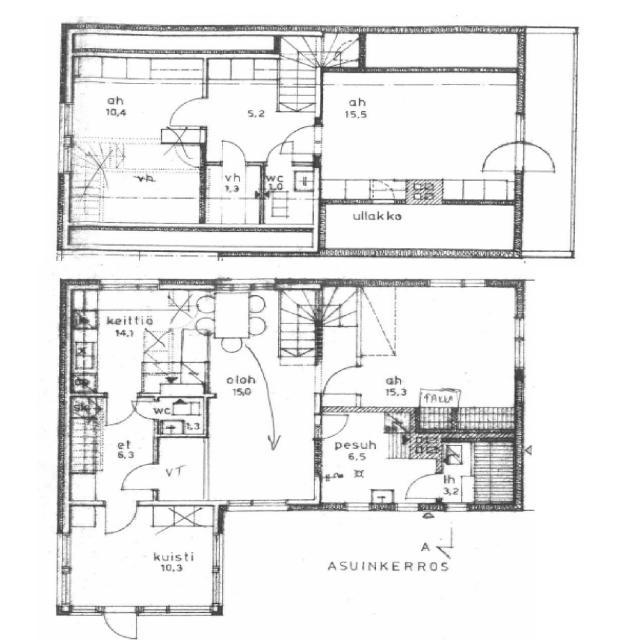door: (152, 437, 208, 504), (204, 162, 262, 199), (476, 139, 521, 175), (319, 363, 363, 398), (399, 470, 445, 503), (165, 94, 208, 129), (118, 460, 162, 494), (279, 122, 322, 156), (516, 140, 558, 174), (101, 605, 139, 640), (101, 502, 139, 537), (104, 396, 136, 428), (215, 137, 250, 166), (317, 411, 351, 440), (174, 138, 204, 168), (129, 397, 160, 423), (194, 293, 216, 321), (192, 314, 215, 335)
window: (223, 496, 292, 515), (509, 314, 528, 371), (425, 275, 489, 291), (164, 602, 214, 618), (208, 530, 227, 572), (54, 533, 74, 572), (225, 278, 275, 292), (58, 101, 75, 140), (510, 111, 529, 145), (99, 280, 144, 292), (66, 604, 102, 618), (342, 500, 373, 515), (57, 143, 72, 174), (510, 316, 527, 342), (442, 501, 472, 515), (139, 604, 171, 616), (392, 502, 421, 514)
zone: (316, 83, 520, 198), (364, 283, 522, 419), (65, 506, 219, 610), (71, 287, 183, 395), (66, 56, 205, 142), (204, 57, 315, 162), (316, 409, 433, 508), (69, 145, 205, 229), (438, 435, 518, 508), (201, 164, 264, 227), (153, 437, 208, 504), (261, 161, 319, 218), (68, 395, 101, 475), (150, 394, 207, 436)
